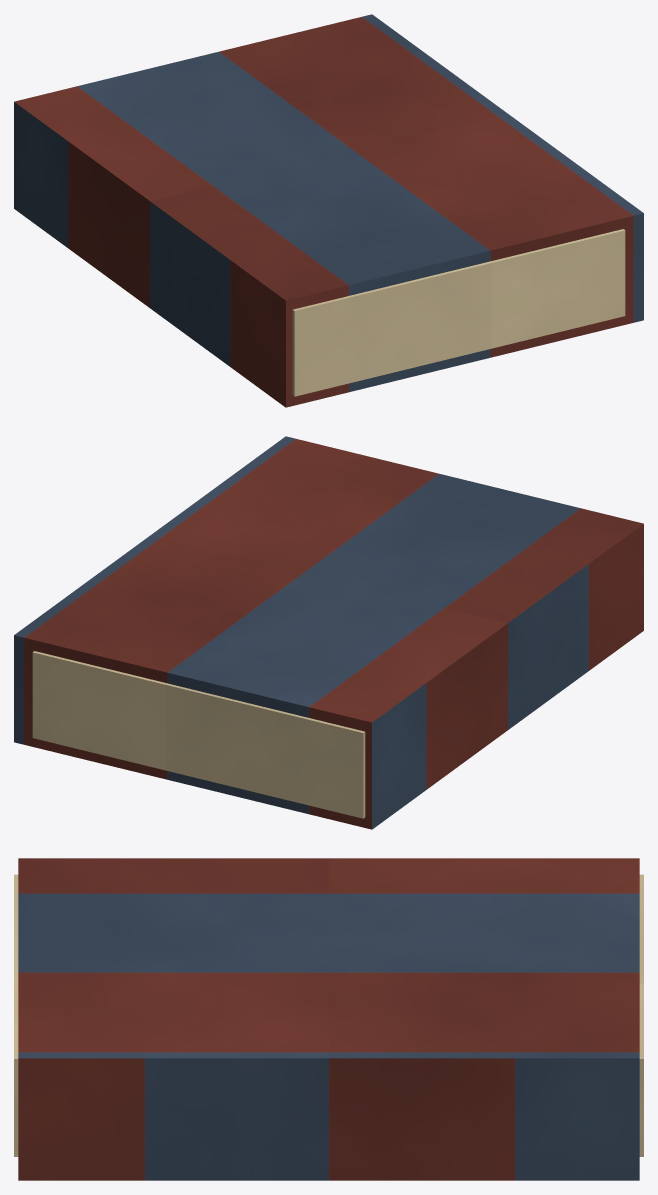
The model's file is Book_5.gltf.
3 views of the same model, one above another, from view 1: azimuth 30°, elevation 25°; view 2: azimuth 150°, elevation 25°; view 3: azimuth 270°, elevation 25° (orthographic). The views are drawn at different scales.
Visible parts, largest first — view 1: Book_5; view 2: Book_5; view 3: Book_5.
Boxes of the visible parts, x1,y1,x2,y2 form: Book_5: (14,14,643,407); Book_5: (14,436,643,829); Book_5: (14,858,643,1180).
Bounding box in the file's own units: 0.21 × 0.06 × 0.28.
2 materials, 2 textured.
